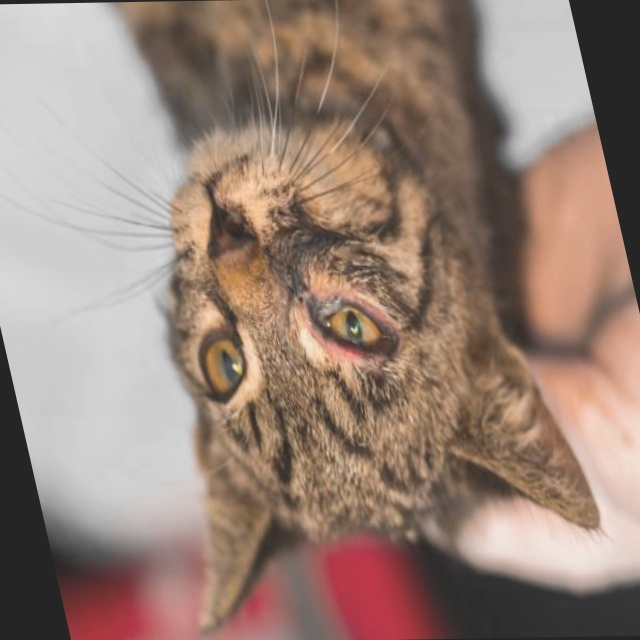eye_infection: (300, 288, 407, 368)
